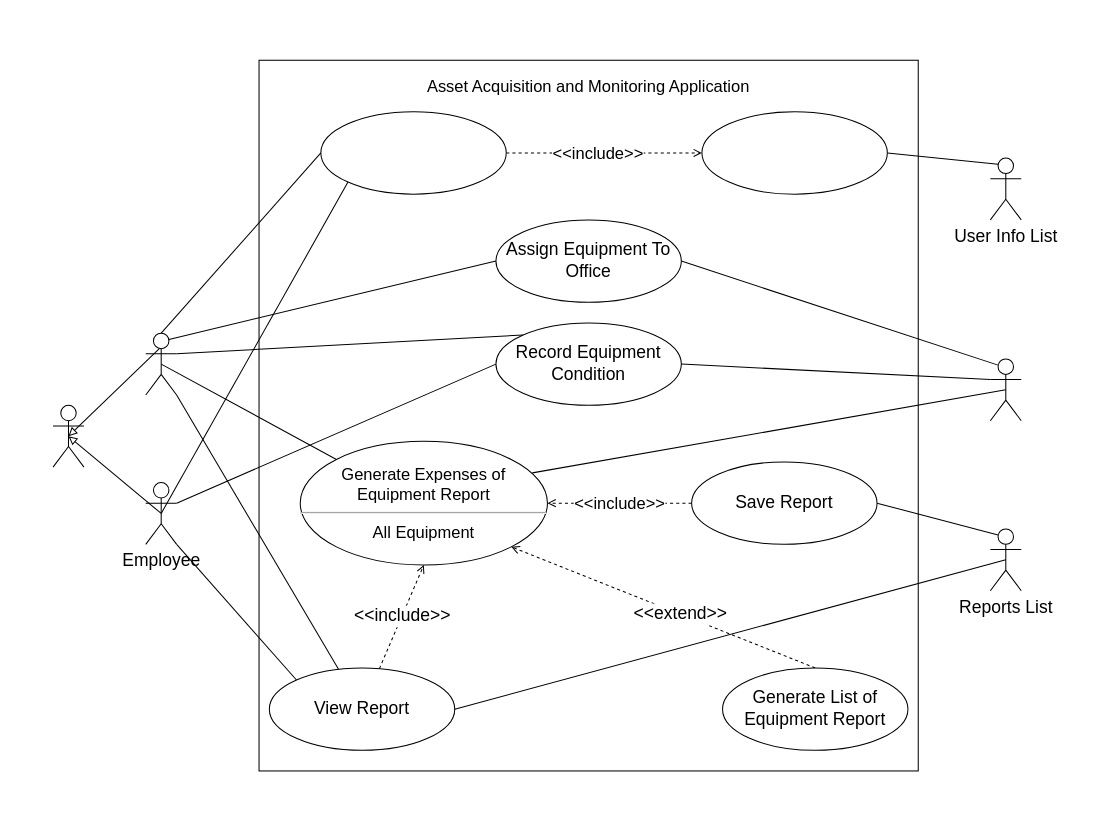
The diagram is 1112 pixels wide and 835 high, and some of its shapes have lost their labels. Each missing label, with the centre of its shape:
"Equipment List" goes at point (1005, 389).
"Log In" goes at point (413, 152).
"Manager" goes at point (161, 363).
"User" goes at point (68, 435).
"Verify Log In Info" goes at point (794, 152).
